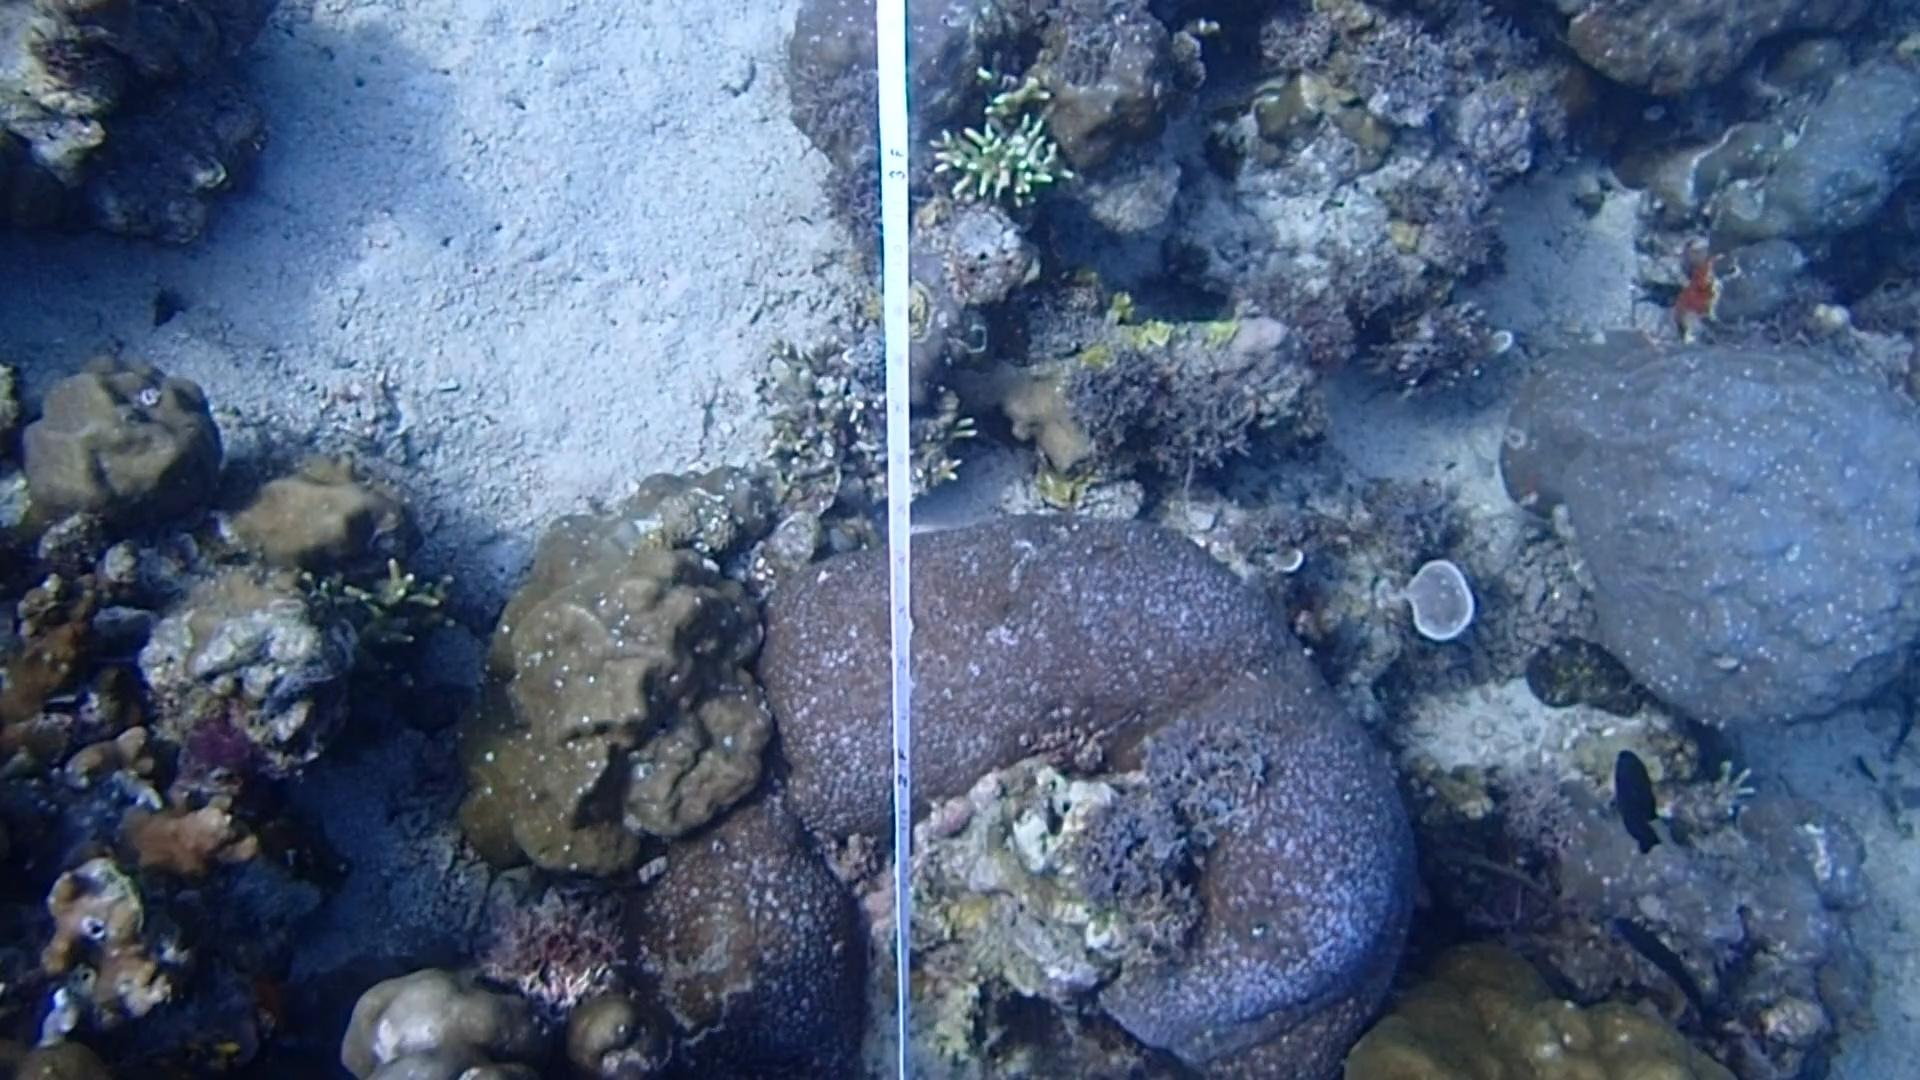Dark Fish: (1601, 738, 1676, 868)
